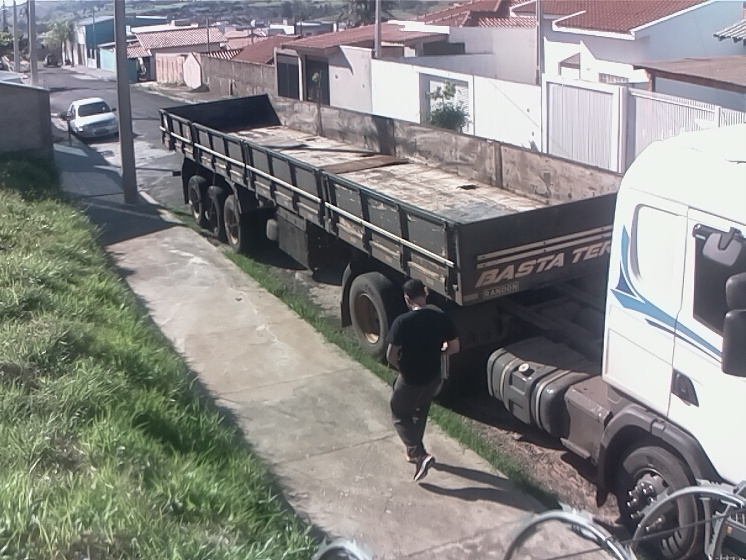person: (383, 276, 463, 483)
